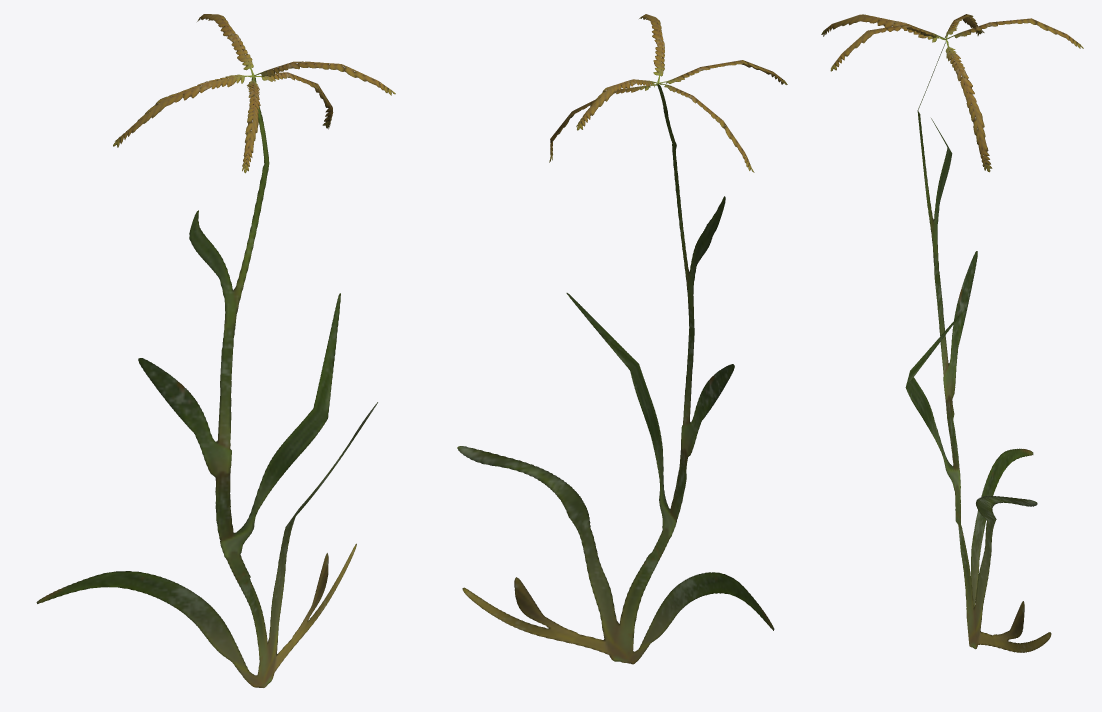
Rendered from Bermuda_Clump_5.fbx.
3 views of the same model, side by side, from view 1: azimuth 30°, elevation 25°; view 2: azimuth 150°, elevation 25°; view 3: azimuth 270°, elevation 25° (orthographic). The views are drawn at different scales.
Parts seen in each view (by area): view 1: grass_bermuda_01_seedling_b; view 2: grass_bermuda_01_seedling_b; view 3: grass_bermuda_01_seedling_b.
Part boxes in pixels (bbox=[...]): grass_bermuda_01_seedling_b: bbox=[36, 14, 395, 687]; grass_bermuda_01_seedling_b: bbox=[457, 14, 787, 664]; grass_bermuda_01_seedling_b: bbox=[821, 14, 1083, 652].
Size of the model in its own units: 7.66 by 12.72 by 4.93.
